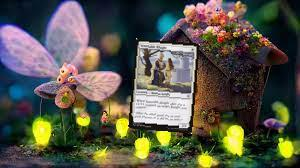mtgCard: (128, 38, 200, 134)
